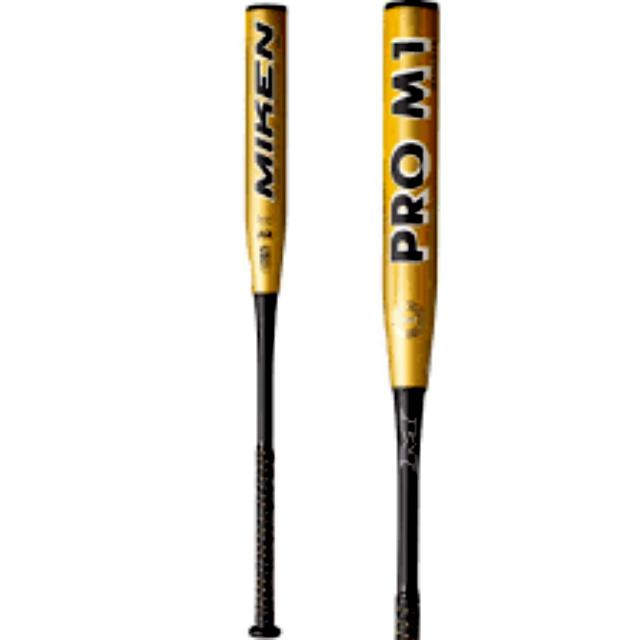baseball bat: (380, 0, 440, 638), (243, 0, 285, 638)
